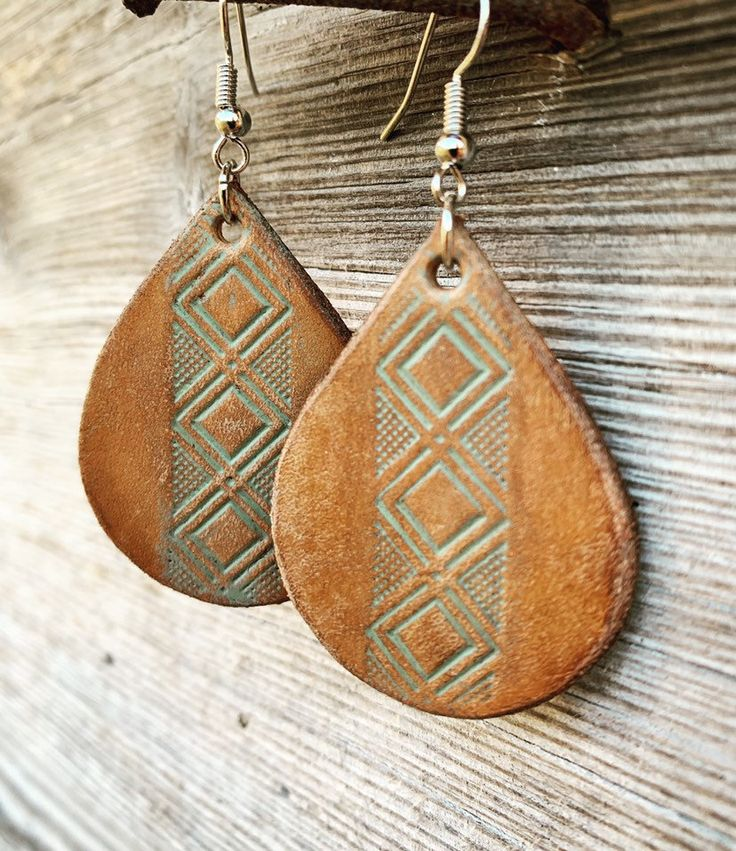cuero: (77, 187, 639, 720)
